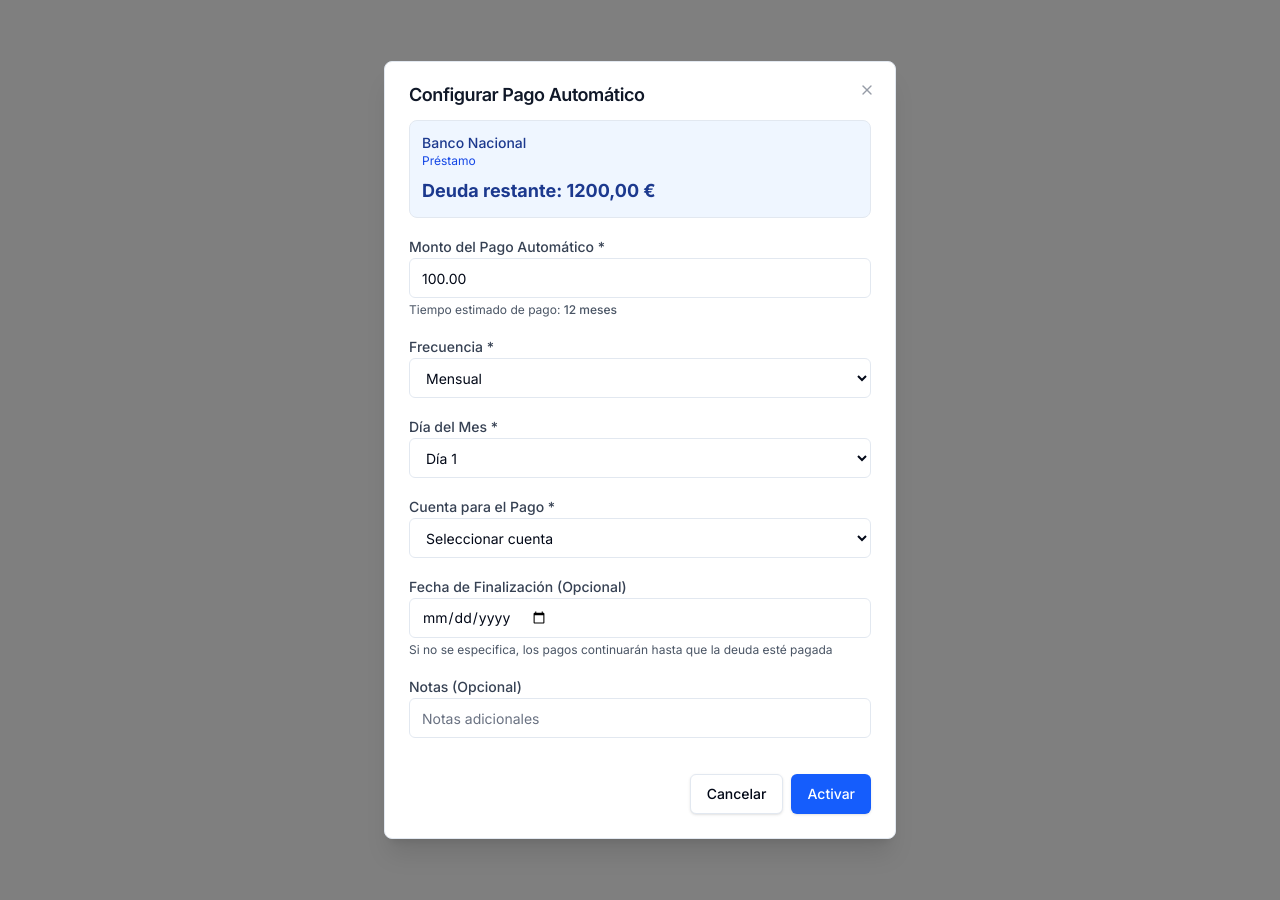
Test: RecurringPaymentModal › cambiar a frecuencia semanal muestra el día de la semana y oculta el día del mes
Select "Semanal" in the dropdown labelled "Frecuencia *" at [640, 378], box [409,358,871,398]
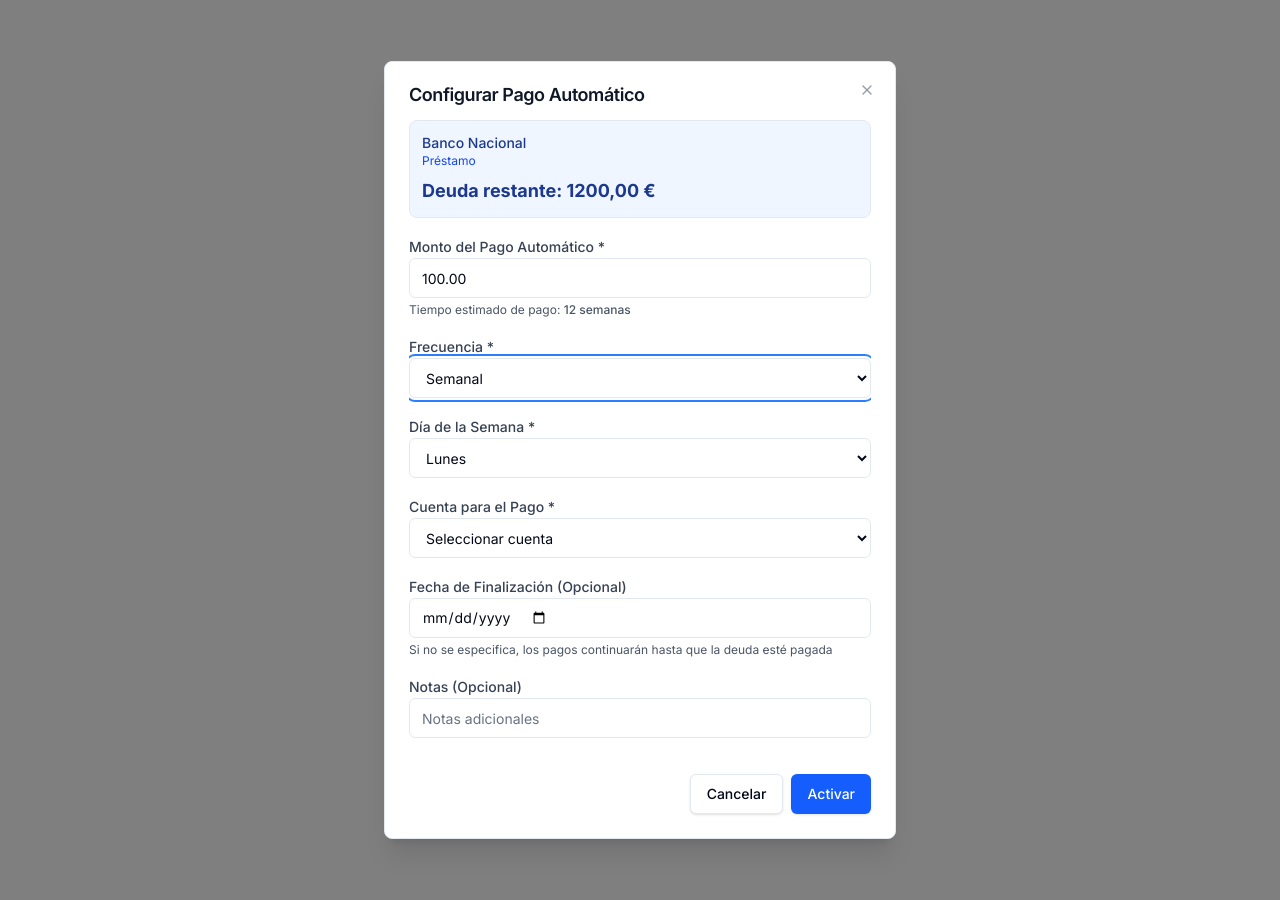
Check: the dropdown labelled "Día de la Semana *" is shown, box [409,438,871,478]
Check: the label labelled "Día del Mes" is gone
